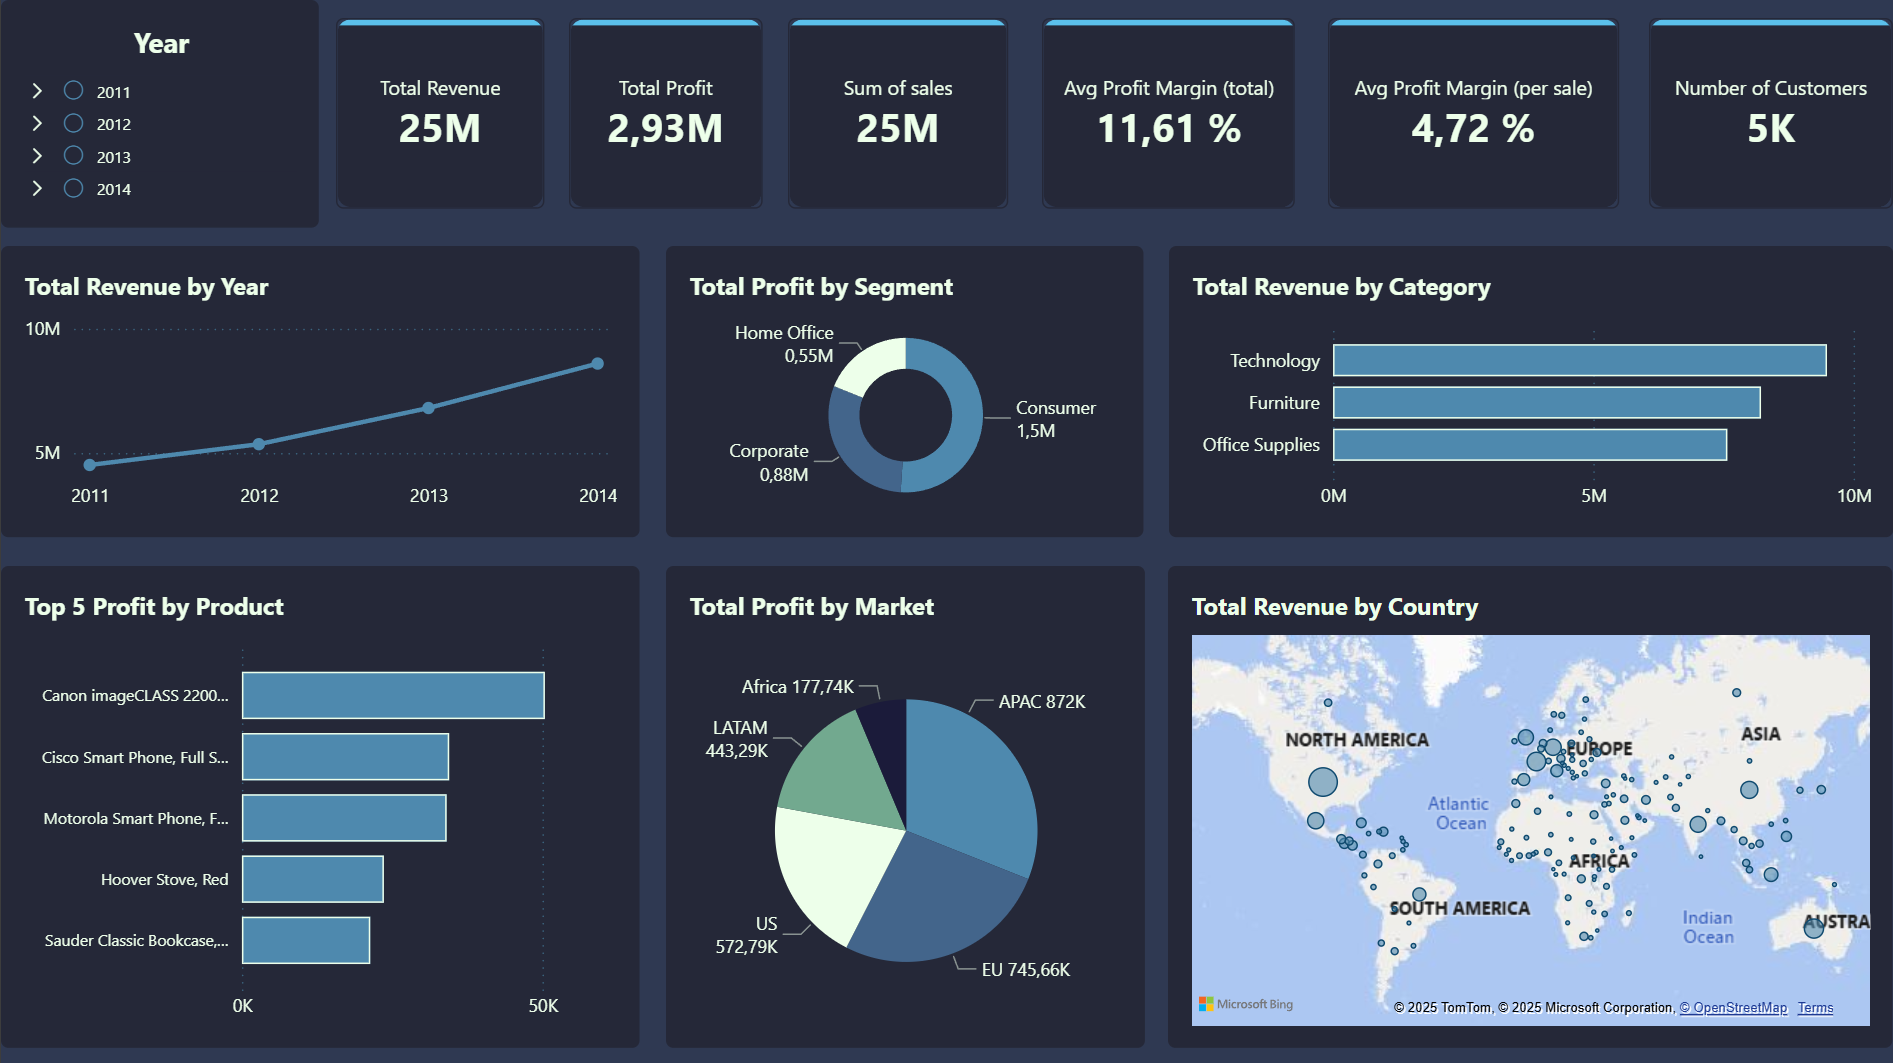

The page's visual inventory and layout, read from the dashboard file:
{"tool":"powerbi","page":{"name":"Page 1","canvas":[1280,720],"ordinal":0},"visuals":[{"type":"listSlicer","fields":{"Values":["public orders.order_date.Variation.Date Hierarchy.Year","public orders.order_date.Variation.Date Hierarchy.Quarter","public orders.order_date.Variation.Date Hierarchy.Month","public orders.order_date.Variation.Date Hierarchy.Day"]},"box":[0,0,215.3,154.4],"z":0},{"type":"cardVisual","fields":{"Data":["Measure Table.Total Revenue"]},"box":[226.4,12.4,140.7,128.9],"z":1000},{"type":"cardVisual","fields":{"Data":["Measure Table.Total Profit"]},"box":[384.1,12.4,130.9,128.9],"z":2000},{"type":"cardVisual","fields":{"Data":["Measure Table.Avg Profit Margin (weighted)"]},"box":[704.1,12.4,171.5,128.9],"z":3000},{"type":"cardVisual","fields":{"Data":["Measure Table.Avg Profit Margin (row avg)"]},"box":[897.8,12.4,197,128.9],"z":4000},{"type":"cardVisual","fields":{"Data":["Measure Table.Number of Customers"]},"box":[1115.1,12.4,164.9,128.9],"z":5000},{"type":"cardVisual","fields":{"Data":["Sum(public orders.sales)"]},"box":[532.7,12.4,148.5,128.9],"z":6000},{"type":"clusteredBarChart","fields":{"Category":["public orders.category"],"Y":["Measure Table.Total Revenue"]},"box":[789.9,166.2,490.1,197],"z":7000},{"type":"lineChart","fields":{"Category":["public orders.order_date.Variation.Date Hierarchy.Year","public orders.order_date.Variation.Date Hierarchy.Quarter","public orders.order_date.Variation.Date Hierarchy.Month","public orders.order_date.Variation.Date Hierarchy.Day"],"Y":["Measure Table.Total Revenue"]},"box":[0,166.2,490.1,197],"z":8000},{"type":"donutChart","fields":{"Category":["public orders.segment"],"Y":["Measure Table.Total Profit"]},"box":[505.8,166.2,267.6,197],"z":9000},{"type":"pieChart","fields":{"Y":["Measure Table.Total Profit"],"Category":["public orders.market_1"]},"box":[109.9,382.8,490.1,325.9],"z":10000},{"type":"map","fields":{"Category":["public orders.country"],"Size":["Measure Table.Total Revenue"]},"box":[681.2,382.8,490.8,325.9],"z":11000}]}

Visuals, with their boxes in screenshot pixels (x1, y1, x2, y2), scaled from the page's 1280x720 canvas onto the 1893x1063 screenshot:
listSlicer - public orders.order_date.Variation.Date Hierarchy.Year x public orders.order_date.Variation.Date Hierarchy.Quarter: (left=0, top=0, right=318, bottom=228)
cardVisual - Measure Table.Total Revenue: (left=335, top=18, right=543, bottom=209)
cardVisual - Measure Table.Total Profit: (left=568, top=18, right=762, bottom=209)
cardVisual - Measure Table.Avg Profit Margin (weighted): (left=1041, top=18, right=1295, bottom=209)
cardVisual - Measure Table.Avg Profit Margin (row avg): (left=1328, top=18, right=1619, bottom=209)
cardVisual - Measure Table.Number of Customers: (left=1649, top=18, right=1892, bottom=209)
cardVisual - Sum(public orders.sales): (left=788, top=18, right=1007, bottom=209)
clusteredBarChart - public orders.category x Measure Table.Total Revenue: (left=1168, top=245, right=1892, bottom=536)
lineChart - public orders.order_date.Variation.Date Hierarchy.Year x public orders.order_date.Variation.Date Hierarchy.Quarter: (left=0, top=245, right=725, bottom=536)
donutChart - public orders.segment x Measure Table.Total Profit: (left=748, top=245, right=1144, bottom=536)
pieChart - Measure Table.Total Profit x public orders.market_1: (left=163, top=565, right=887, bottom=1046)
map - public orders.country x Measure Table.Total Revenue: (left=1007, top=565, right=1733, bottom=1046)
